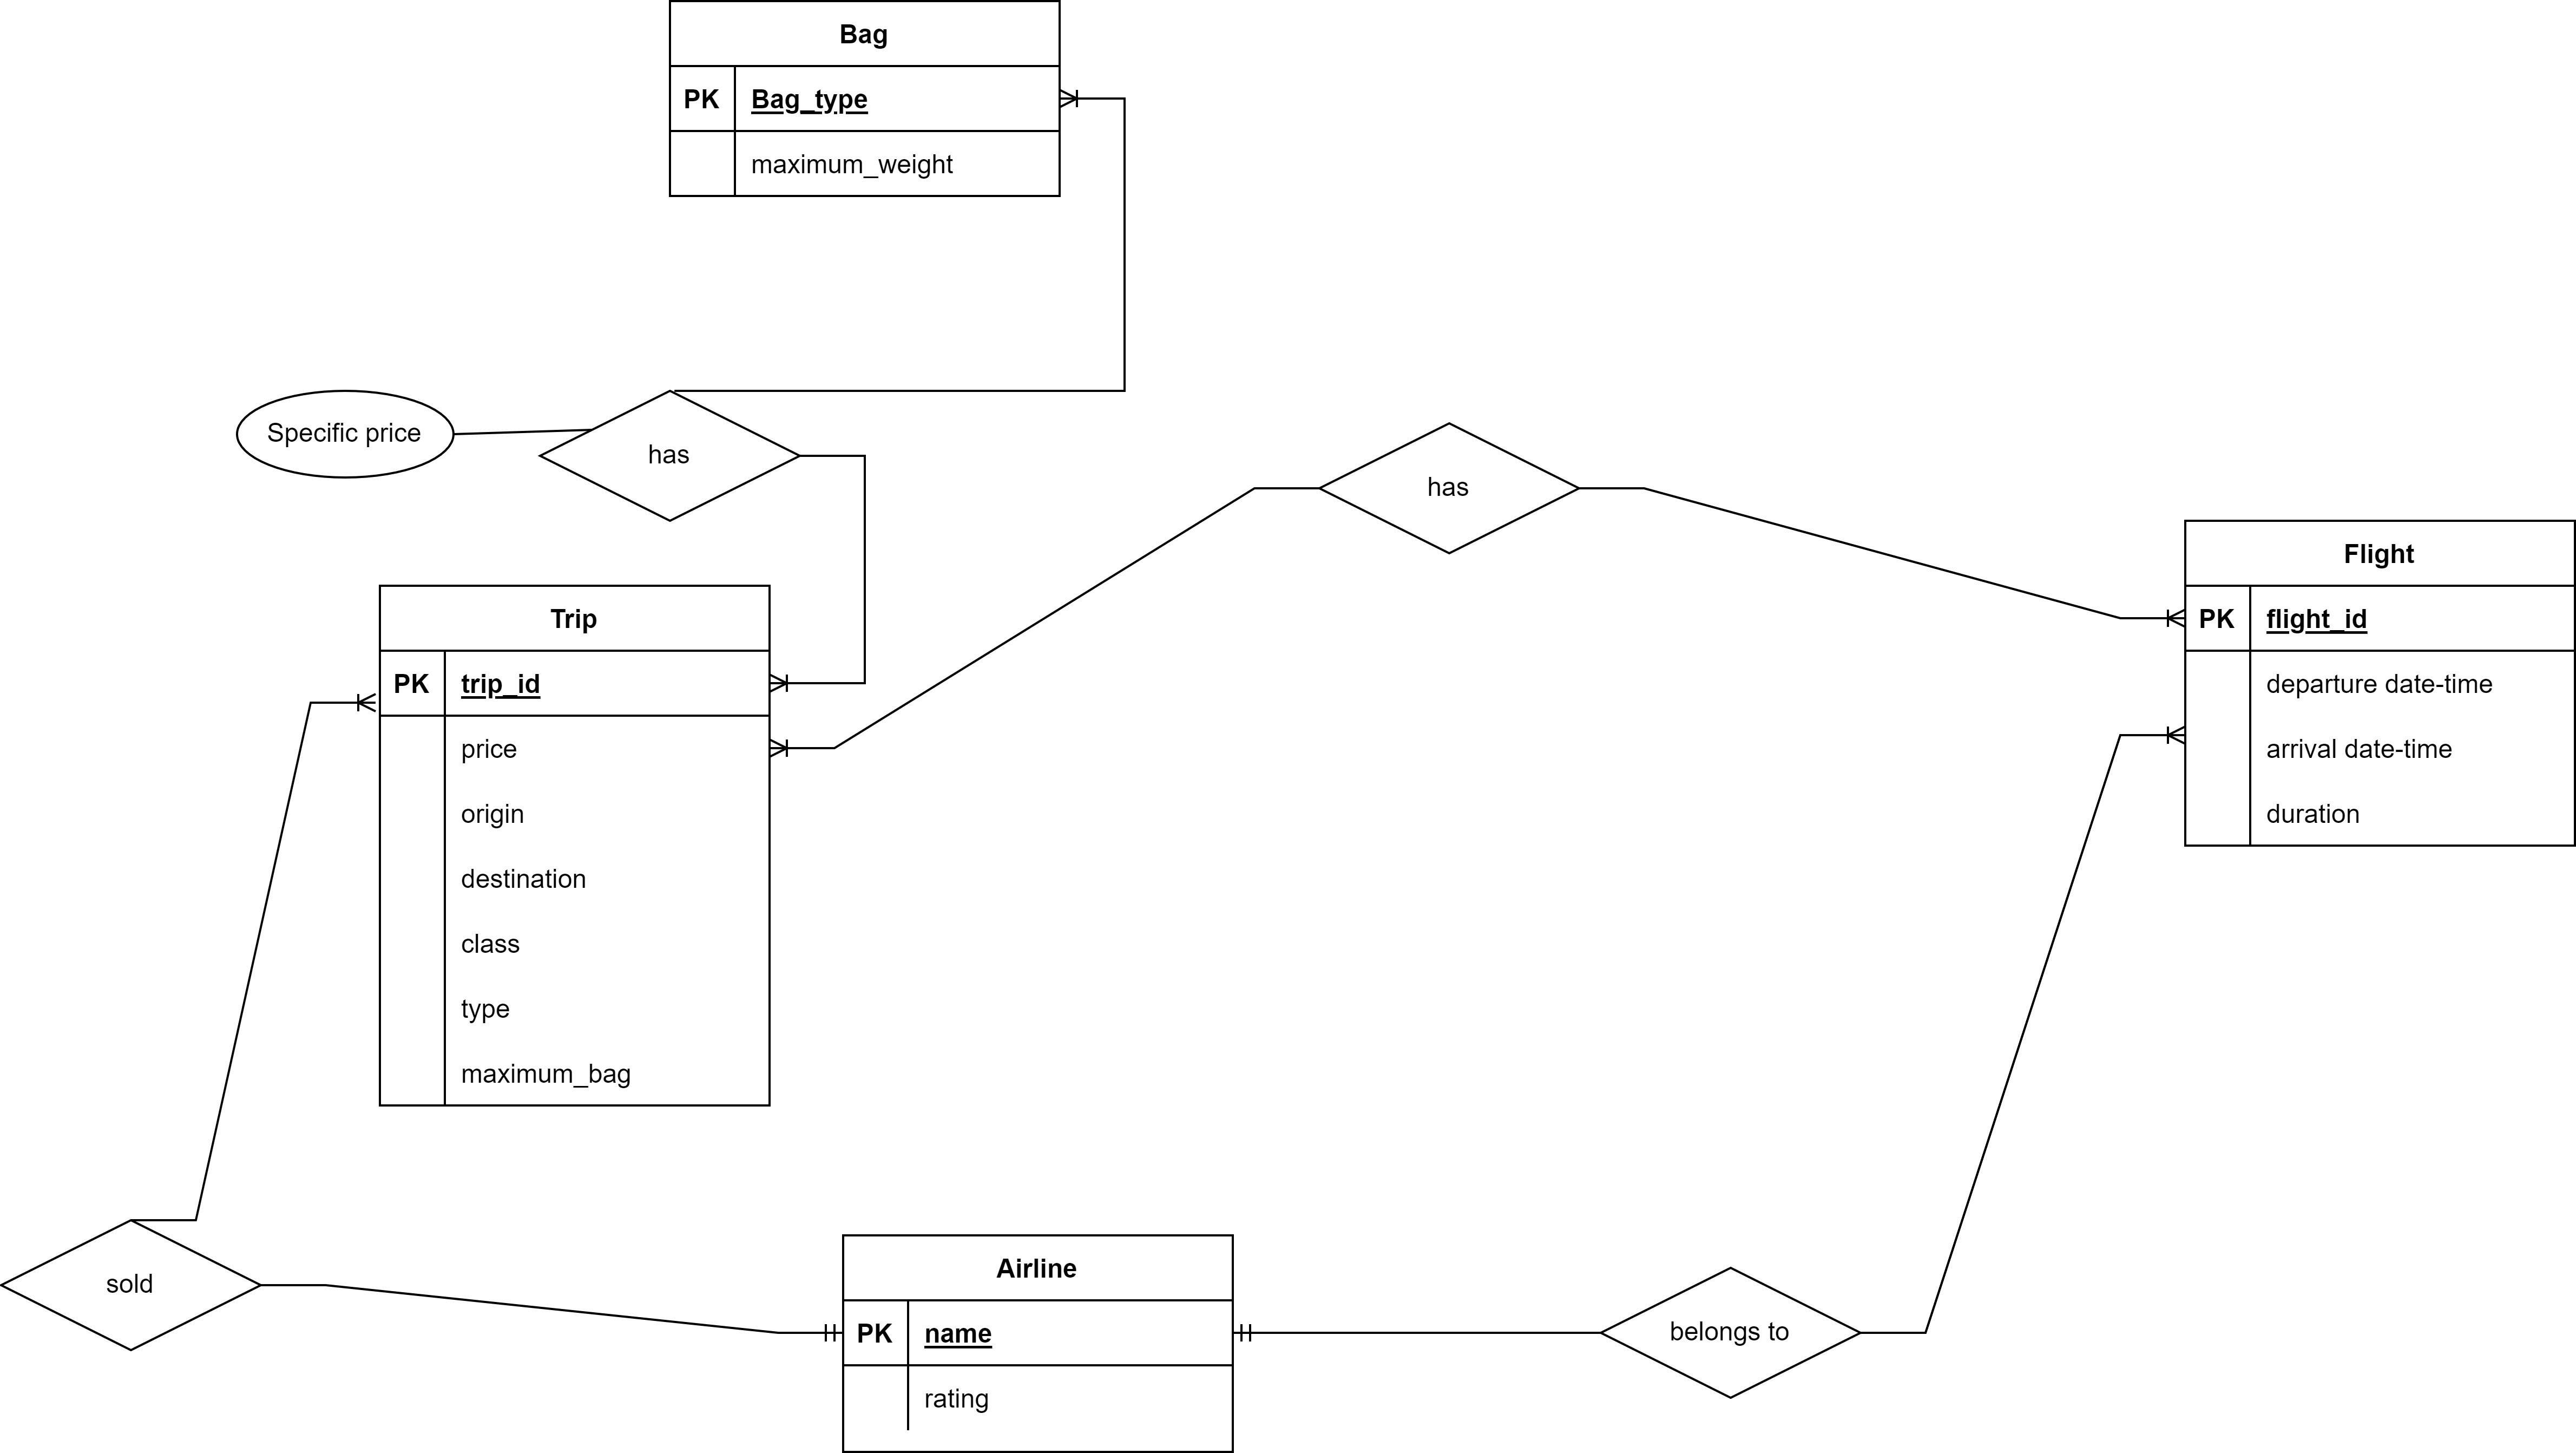attribute: (234, 393, 453, 476)
entity: (373, 579, 775, 1115), (2181, 517, 2576, 851), (840, 1232, 1240, 1453), (665, 0, 1063, 200)
relationship: (1610, 1262, 1859, 1405), (0, 1216, 253, 1352), (1322, 421, 1575, 554), (541, 393, 796, 522)
